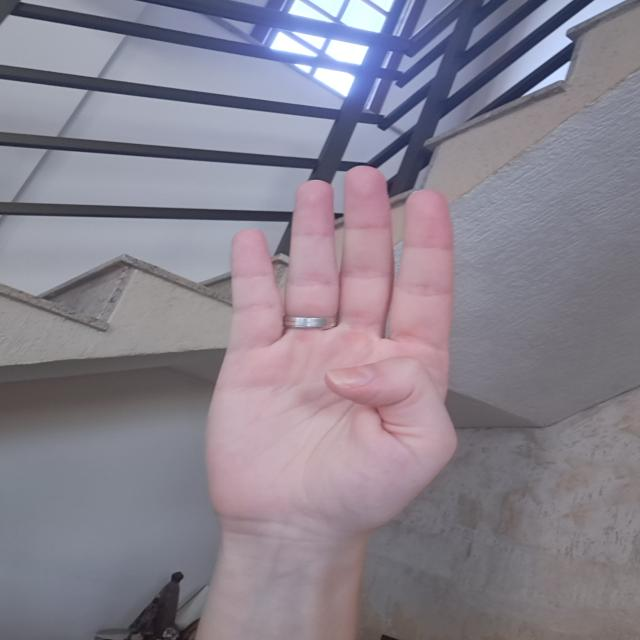B: (202, 161, 458, 531)
